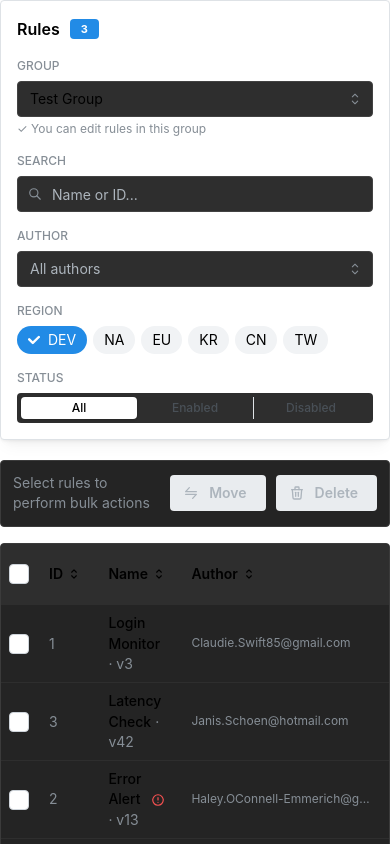
Test: RulesListPage › Bulk Actions › Delete Modal › opens when Delete clicked
What coordinates should you click on to do the following:
click the checkbox below "Login Monitor"
I would click on:
 (19, 644)
Its box is [9,634,29,654].
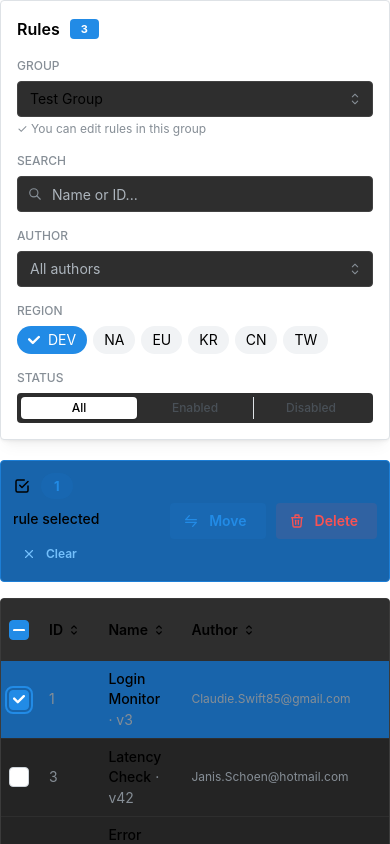
What coordinates should you click on to do the following:
click the button "Delete"
I would click on:
 (326, 521)
Its box is [276,503,377,539].
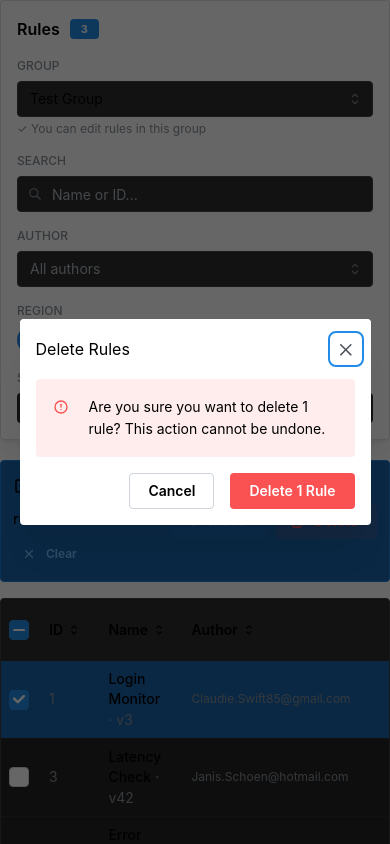
Check: the dialog is shown, box [20,319,370,525]
Check: the heading "Delete Rules" is shown, box [36,341,130,357]
